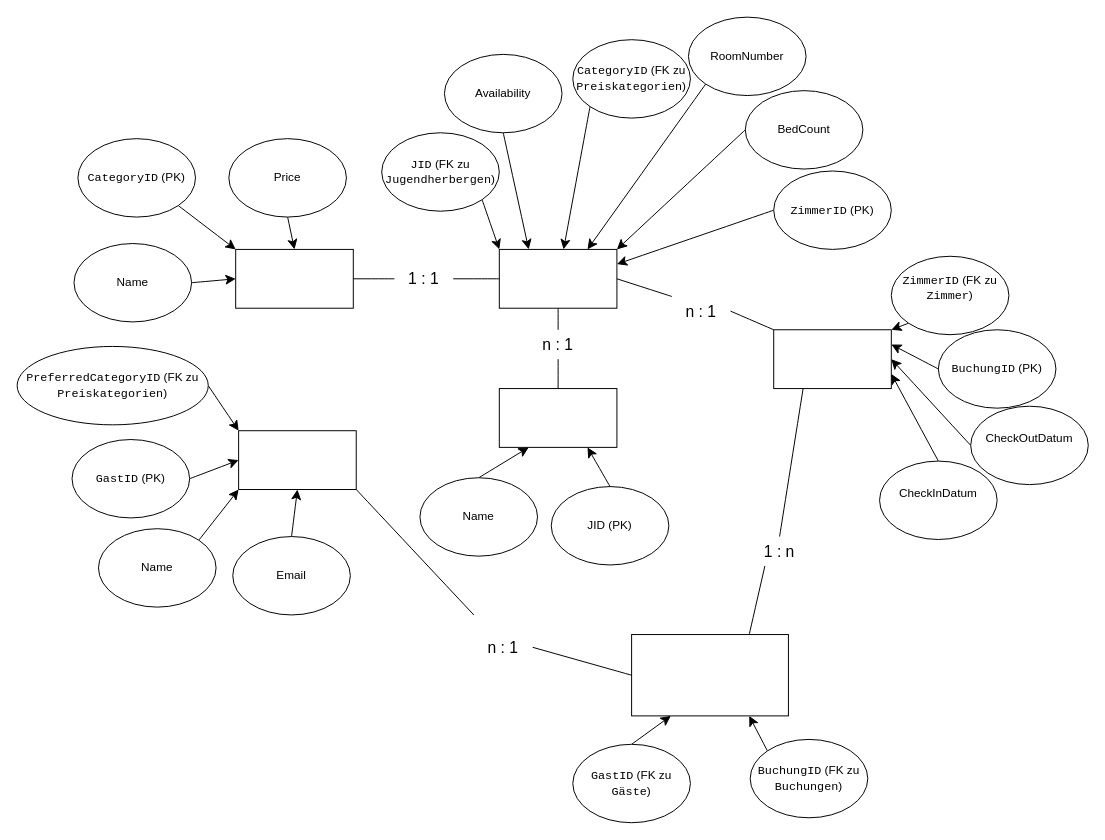
Some shapes in this 1105 by 840 pixel diagram are drawn without their labels. Here are the shapes that lost their labels. From the top down, the box of each, then its label:
(235, 248, 353, 308): Preiskategorien
(498, 248, 617, 308): Zimmer
(773, 329, 891, 389): Buchungen
(498, 388, 617, 447): Jugendherbergen
(238, 430, 356, 490): Gäste
(631, 634, 788, 716): Buchung_Gaeste (Verbindungstabelle für die Zuordnung von Gästen zu Buchungen)
